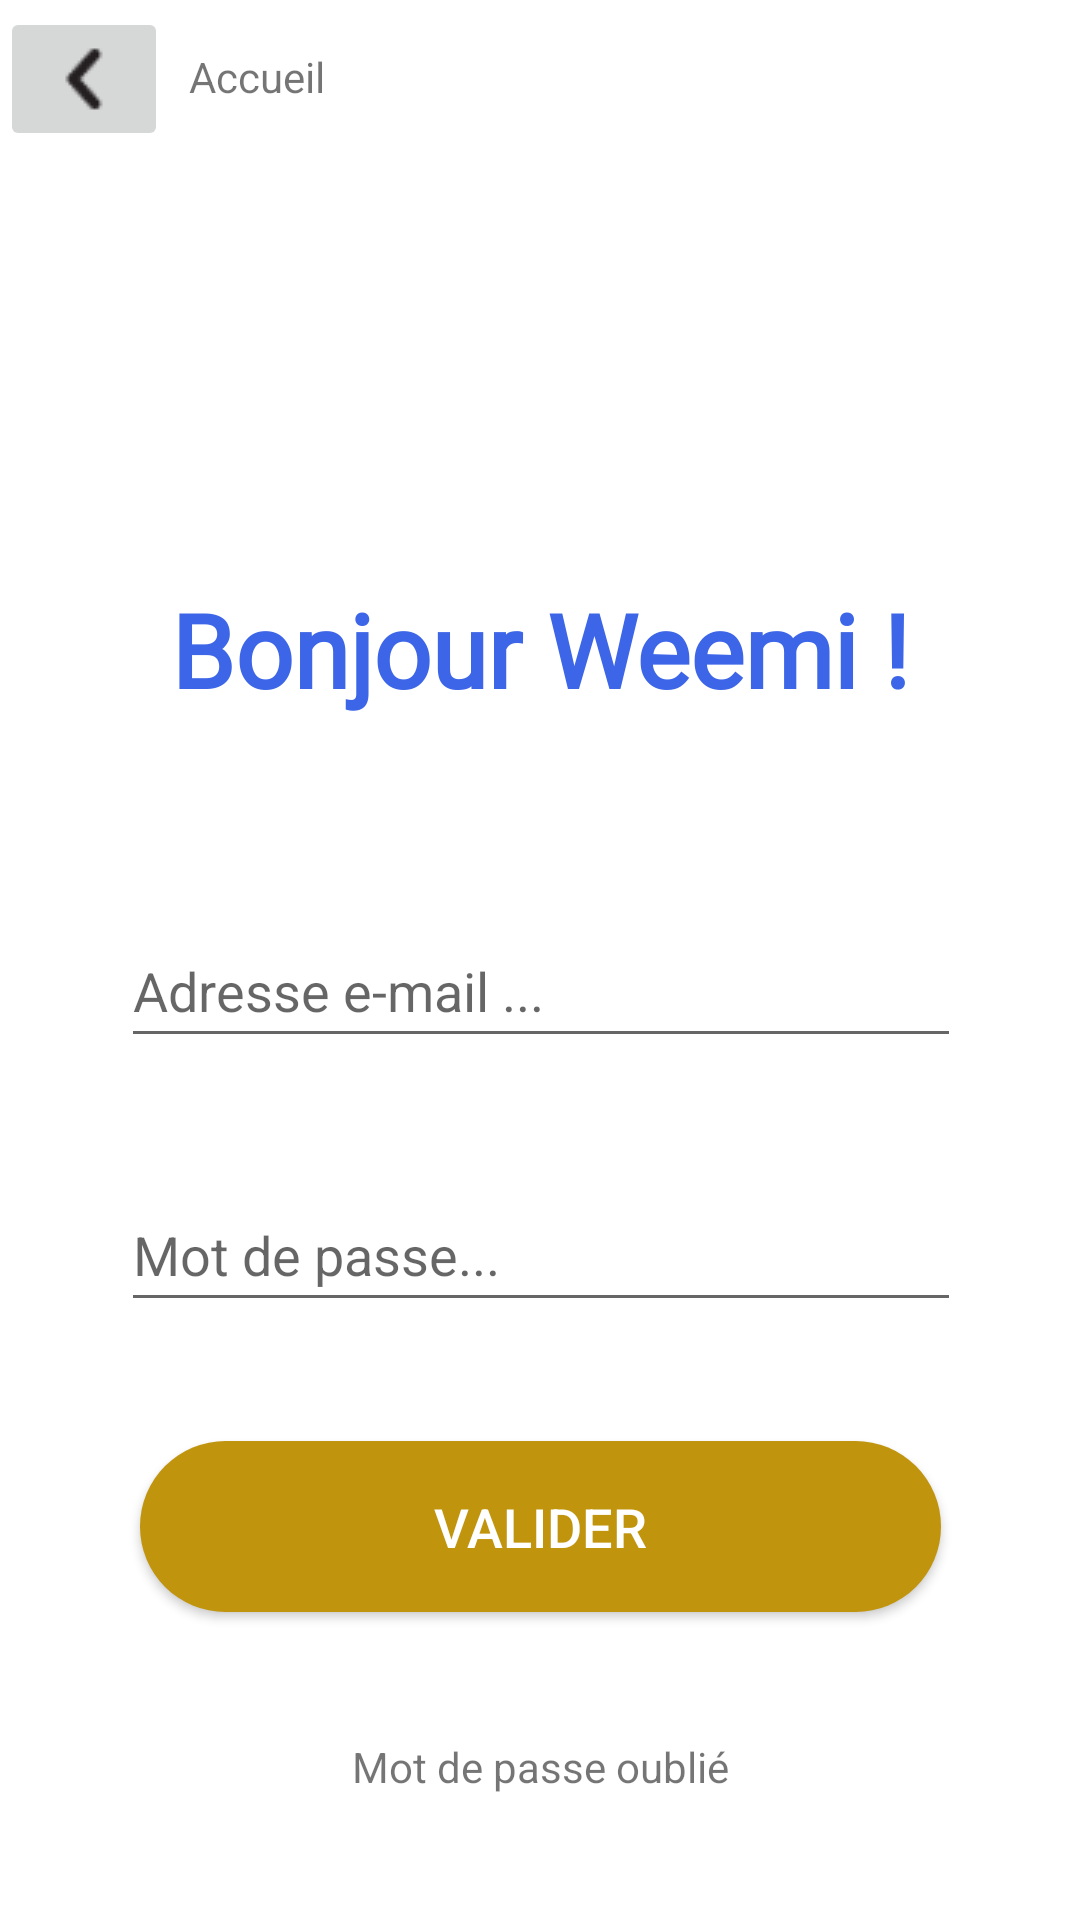

Point at icon controls on the screen. Image size 1080w x 1920h, points as (x,y).
left: (84,79)
